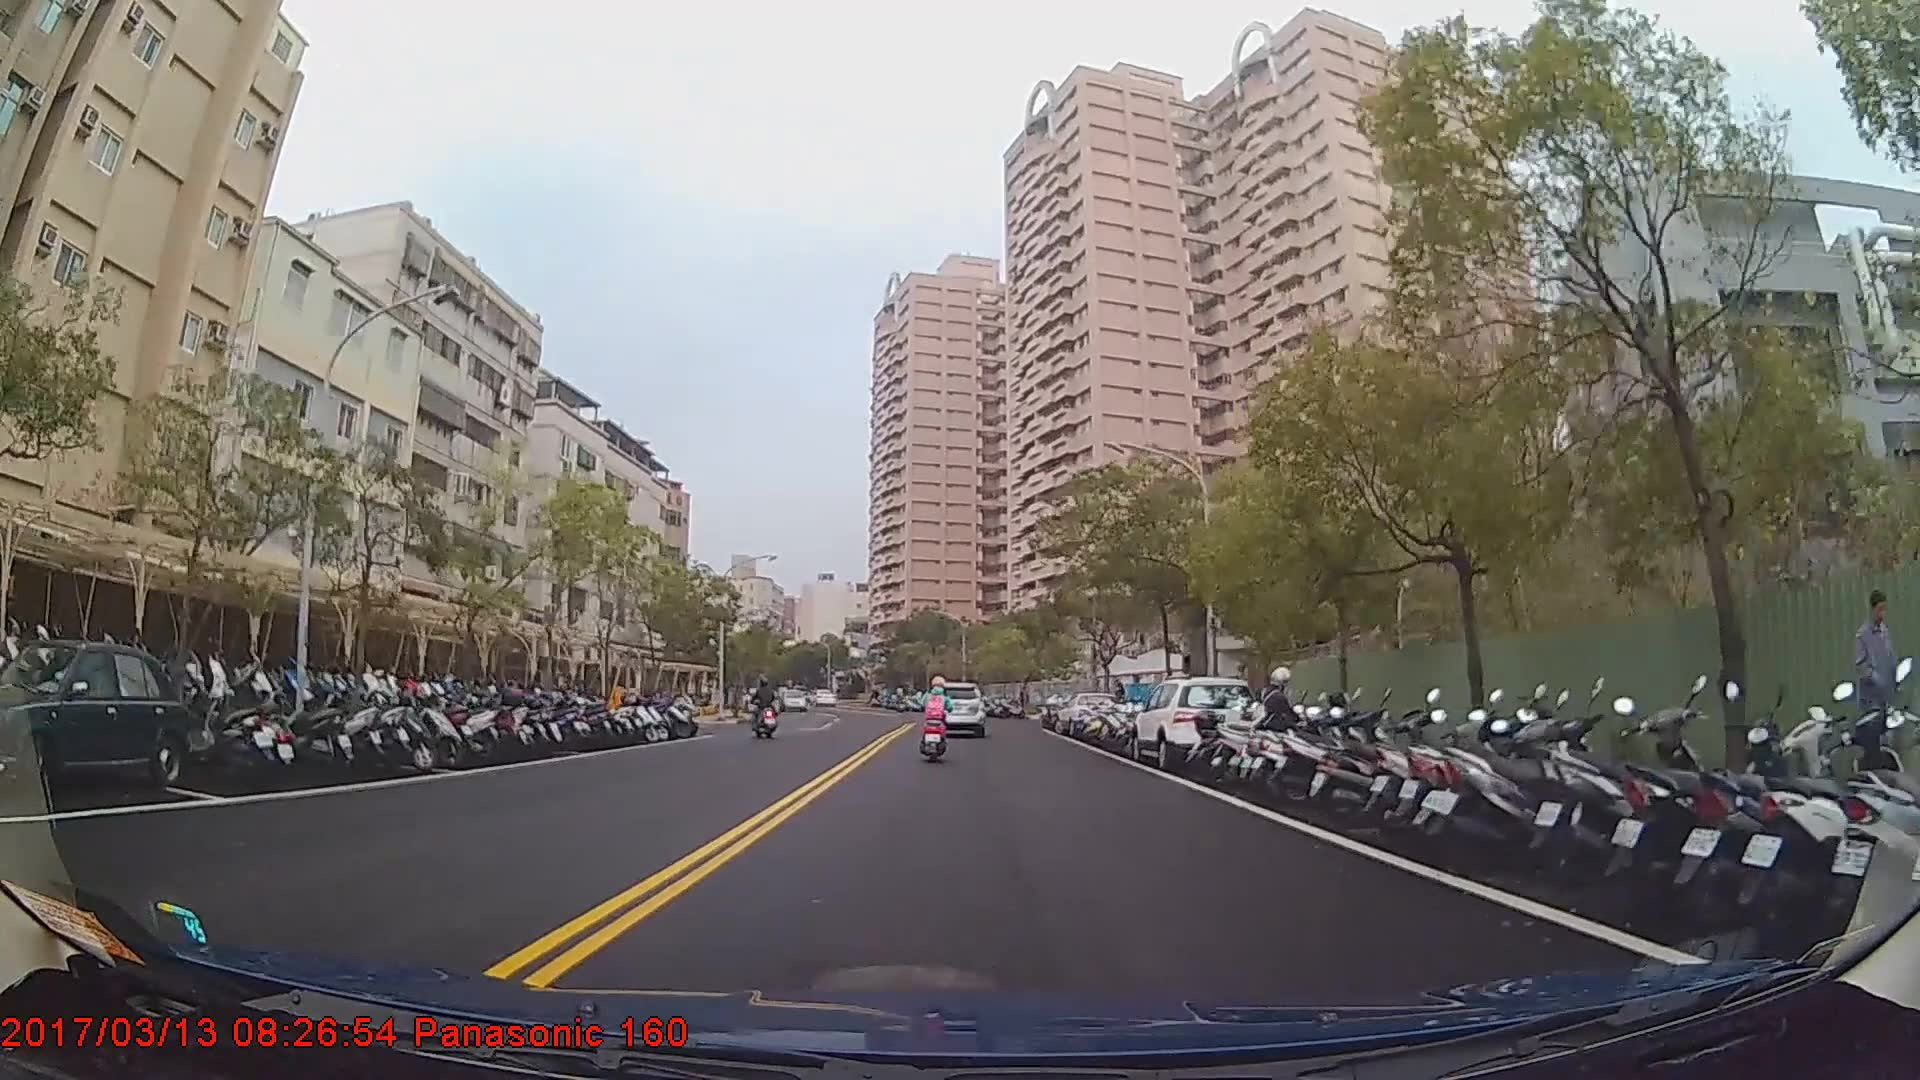pedestrian: (1852, 587, 1906, 785)
rider: (920, 676, 956, 766), (748, 679, 782, 744)
vehicle: (0, 634, 186, 802), (1129, 677, 1258, 772), (927, 682, 985, 737), (777, 689, 808, 712)
